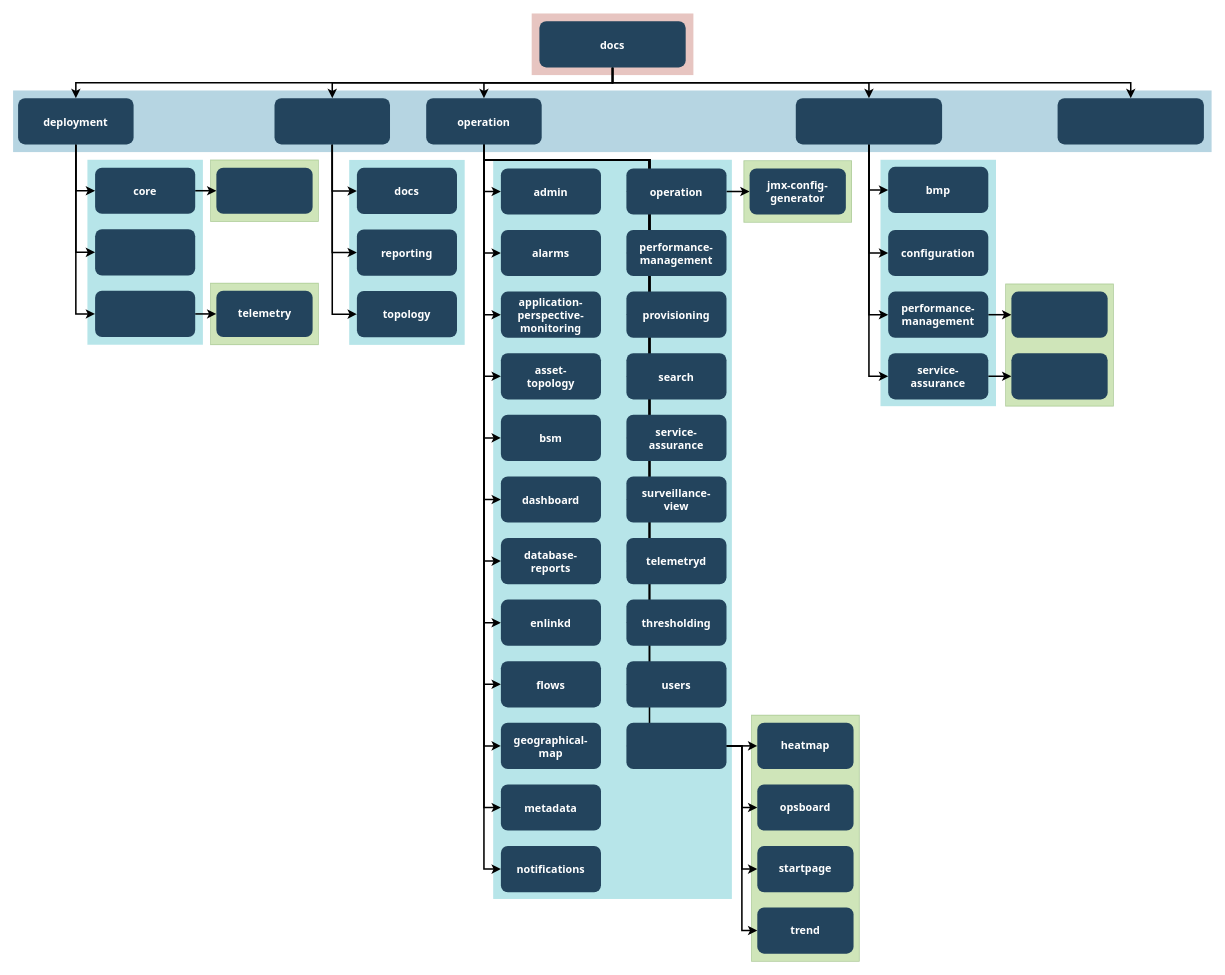
Some shapes in this 1225 by 975 pixel diagram are drawn without their labels. The shapes that lost their labels are listed below. From the top down, each one's centre as x and y in pixels, then its label:
At point (332, 121): "development".
At point (868, 121): "reference".
At point (1130, 121): "releasenotes".
At point (264, 190): "message-broker".
At point (145, 252): "minion".
At point (145, 313): "scenarios".
At point (1059, 314): "collectors".
At point (1059, 376): "monitors".
At point (676, 745): "webui".
